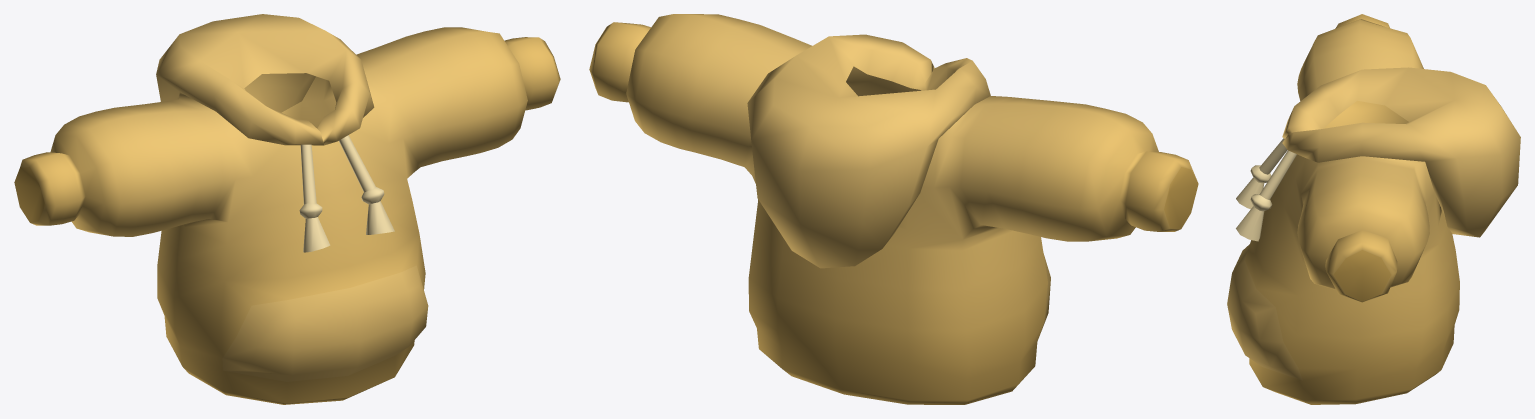
The model's file is Top_23.fbx.
The picture shows the model from 3 angles, left to right: view 1: azimuth 30°, elevation 25°; view 2: azimuth 150°, elevation 25°; view 3: azimuth 270°, elevation 25°; orthographic projection. The views are drawn at different scales.
Parts seen in each view (by area): view 1: Top_23; view 2: Top_23; view 3: Top_23.
Part boxes in pixels (x1,y1,x2,y2): Top_23: [14, 14, 560, 404]; Top_23: [589, 14, 1198, 404]; Top_23: [1227, 14, 1520, 404].
Bounding box in the file's own units: 95.72 × 52.6 × 50.88.
